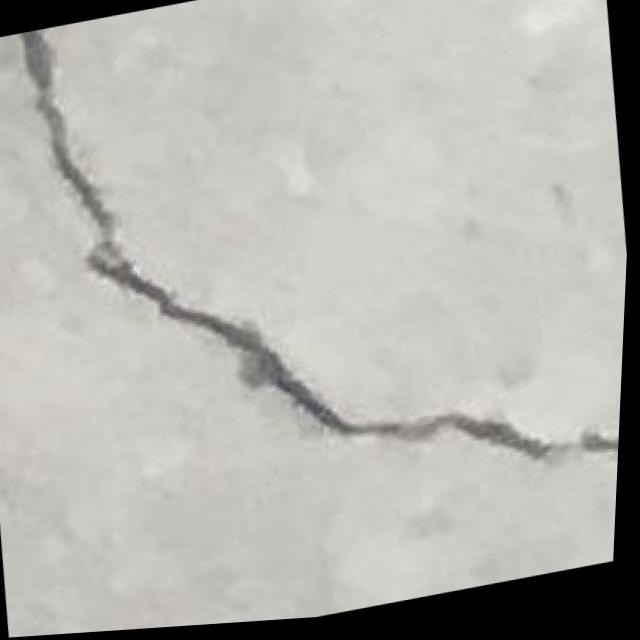Crack: (0, 0, 640, 570)
